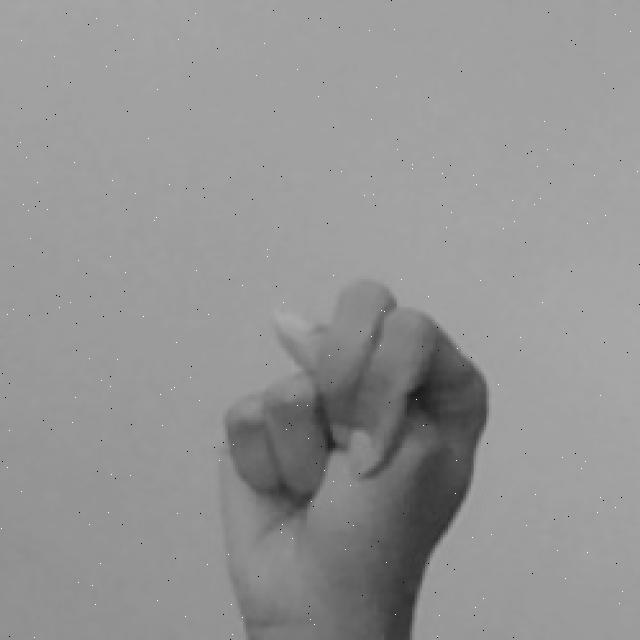N: (207, 276, 494, 640)
